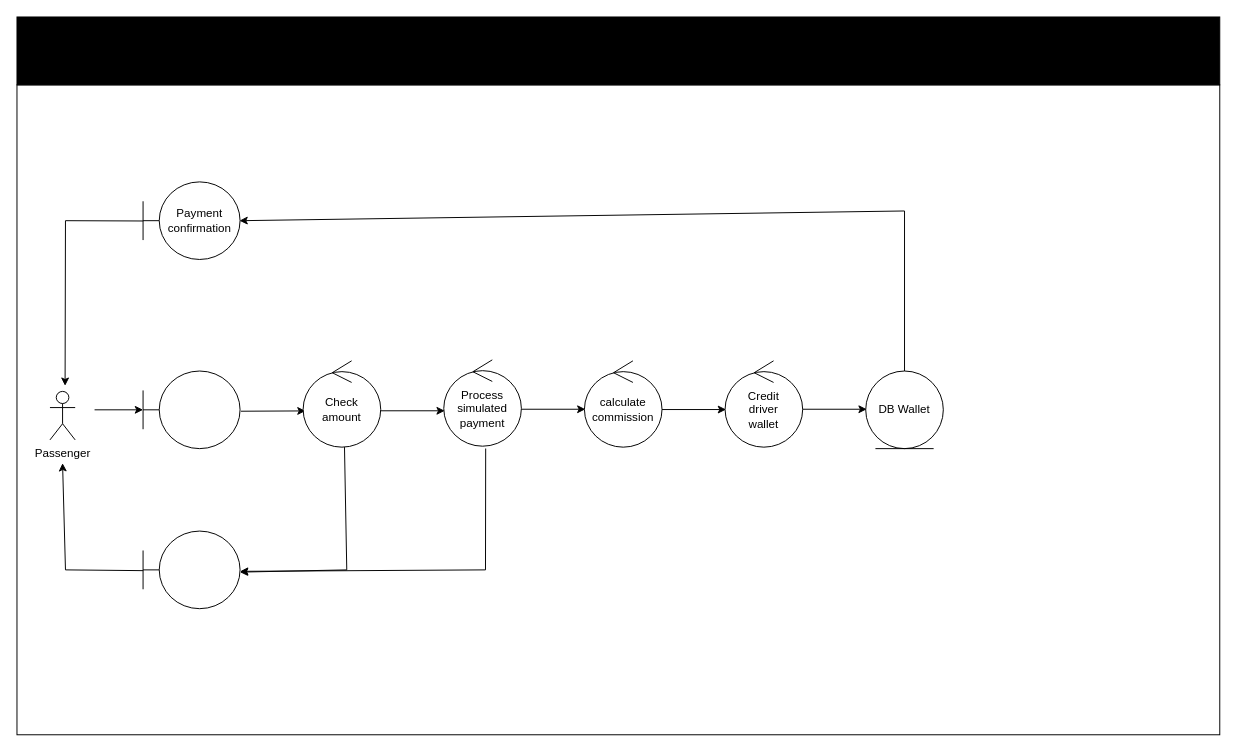
Image size: 1237x752. Some labels were removed from this diagram. Here are the shapes that lost their labels. From the top down, the centre of each, then its label:
At (x=618, y=50): "RD-04-01-Payments-Pay-Trip".
At (x=191, y=409): "Payment".
At (x=191, y=569): "Error message".
